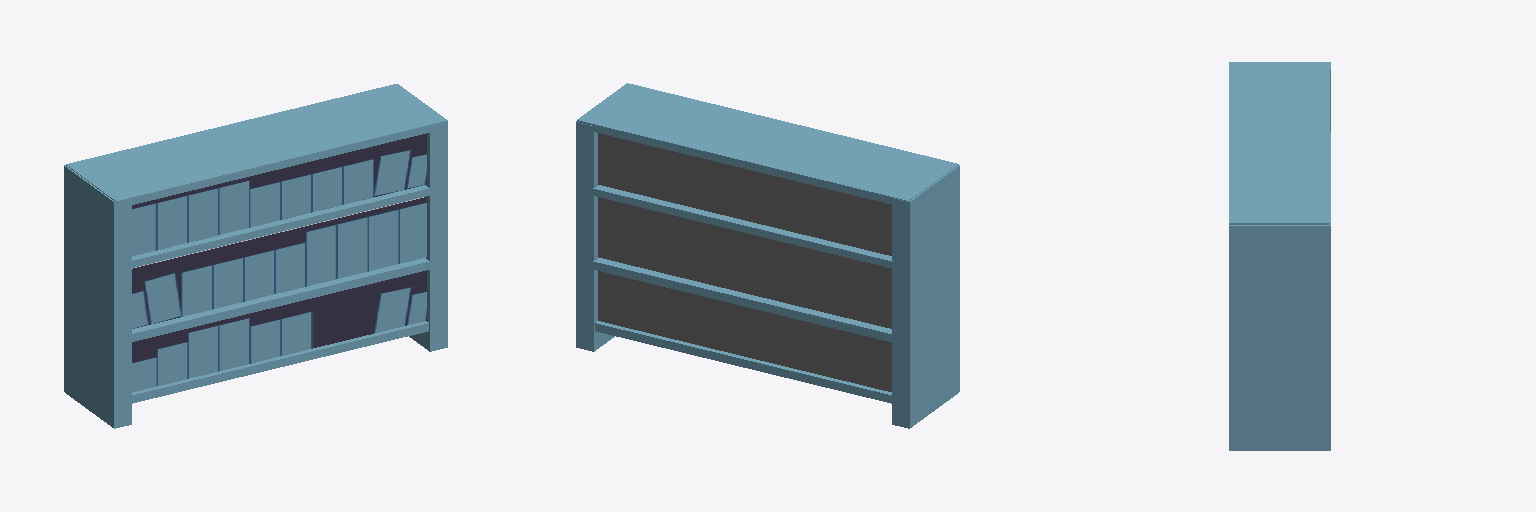
3 views of the same model, side by side, from view 1: azimuth 30°, elevation 25°; view 2: azimuth 150°, elevation 25°; view 3: azimuth 270°, elevation 25° (orthographic).
Visible parts, largest first — view 1: Shelf:ShelfLeft1, pasted__pCube1 group, pasted__pCube1 group1, pCube1; view 2: Shelf:ShelfLeft1, pasted__pCube1 group, pasted__pCube1 group1, pCube1; view 3: Shelf:ShelfLeft1.
Boxes of the visible parts, x1,y1,x2,y2 form: Shelf:ShelfLeft1: [64, 84, 447, 428]; pasted__pCube1 group: [132, 197, 426, 328]; pasted__pCube1 group1: [132, 133, 426, 255]; pCube1: [132, 270, 426, 392]; Shelf:ShelfLeft1: [576, 83, 959, 428]; pasted__pCube1 group: [598, 197, 891, 328]; pasted__pCube1 group1: [598, 133, 891, 255]; pCube1: [598, 271, 891, 391]; Shelf:ShelfLeft1: [1229, 62, 1330, 450].
Bounding box in the file's own units: 133 × 86.43 × 35.28.
Materials: 7 (4 with a texture image).